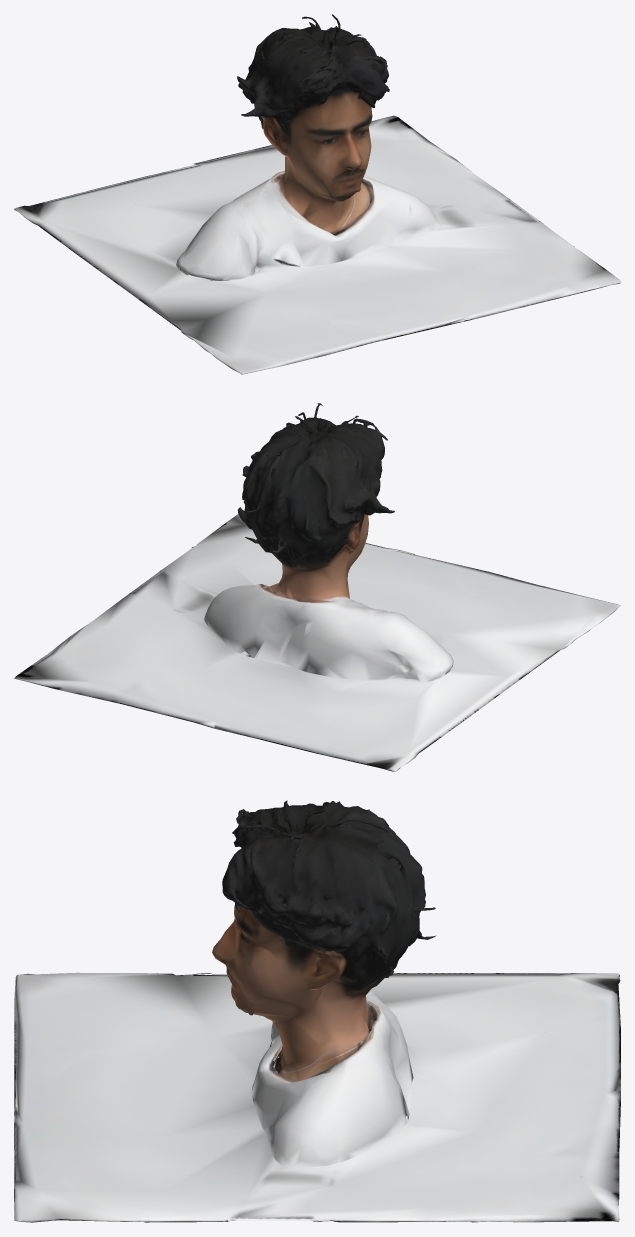
Rendered from Utsav.glb.
The picture shows the model from 3 angles, top to bottom: view 1: azimuth 30°, elevation 25°; view 2: azimuth 150°, elevation 25°; view 3: azimuth 270°, elevation 25°; orthographic projection. The views are drawn at different scales.
Size of the model in its own units: 1.94 by 1.1 by 2.
Materials: 1 (1 with a texture image).
